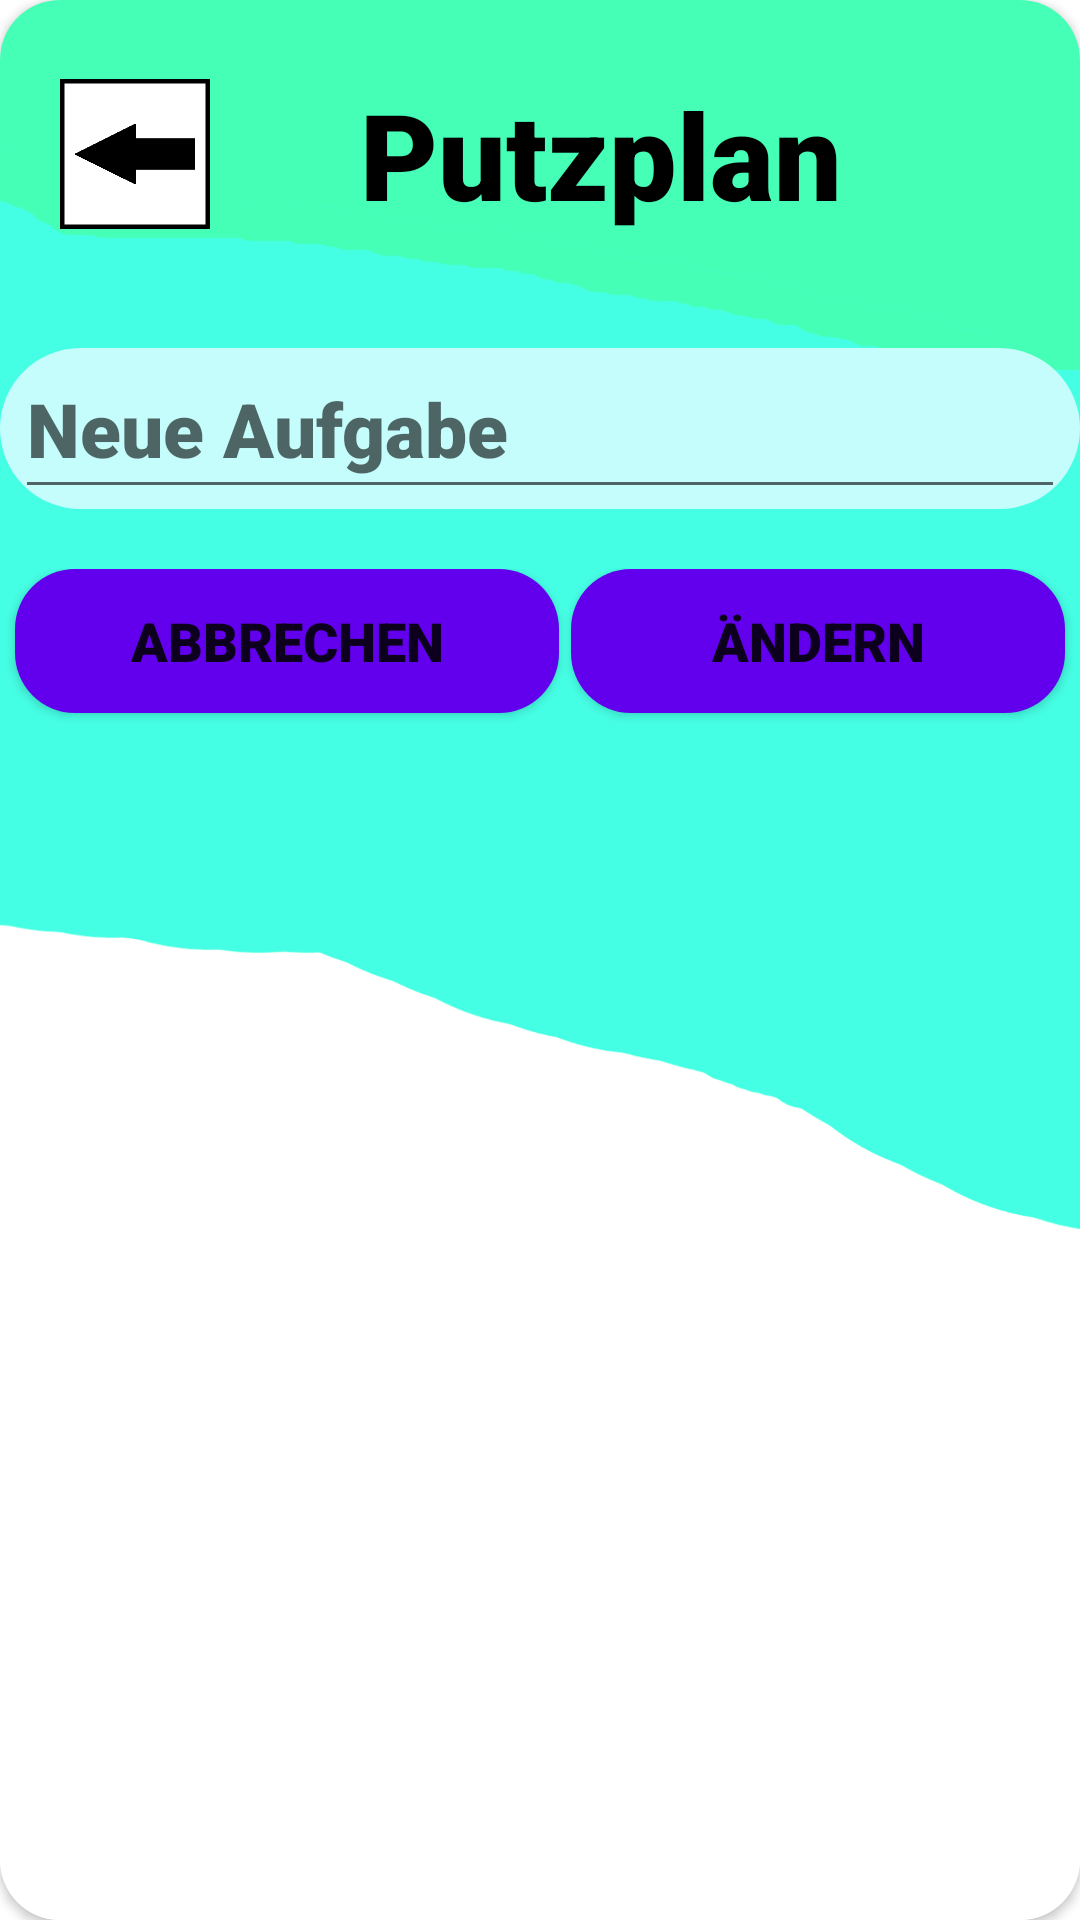

Where icons sit on this 1080w x 1920h app screen, as (x1, y1, x2, y2):
zurueck: (60, 79, 210, 229)
